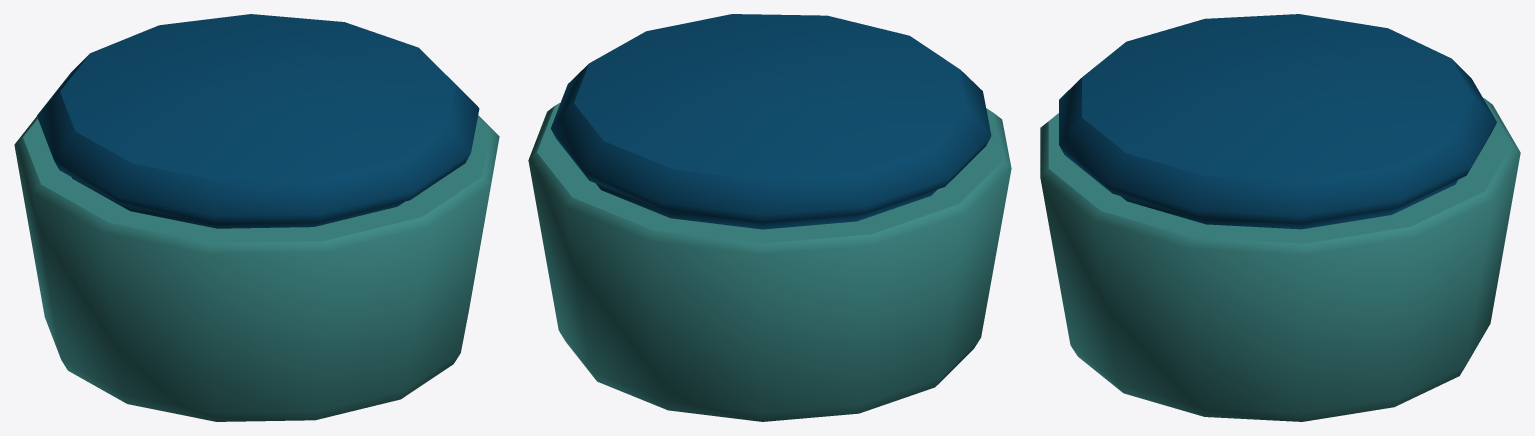
The picture shows the model from 3 angles, left to right: view 1: azimuth 30°, elevation 25°; view 2: azimuth 150°, elevation 25°; view 3: azimuth 270°, elevation 25°; orthographic projection.
Parts seen in each view (by area): view 1: Box3; view 2: Box3; view 3: Box3.
Part boxes in pixels (<box>): Box3: <box>14,14,499,421</box>; Box3: <box>528,14,1011,421</box>; Box3: <box>1040,14,1520,421</box>.
Size of the model in its own units: 21.62 by 21.46 by 12.76.
